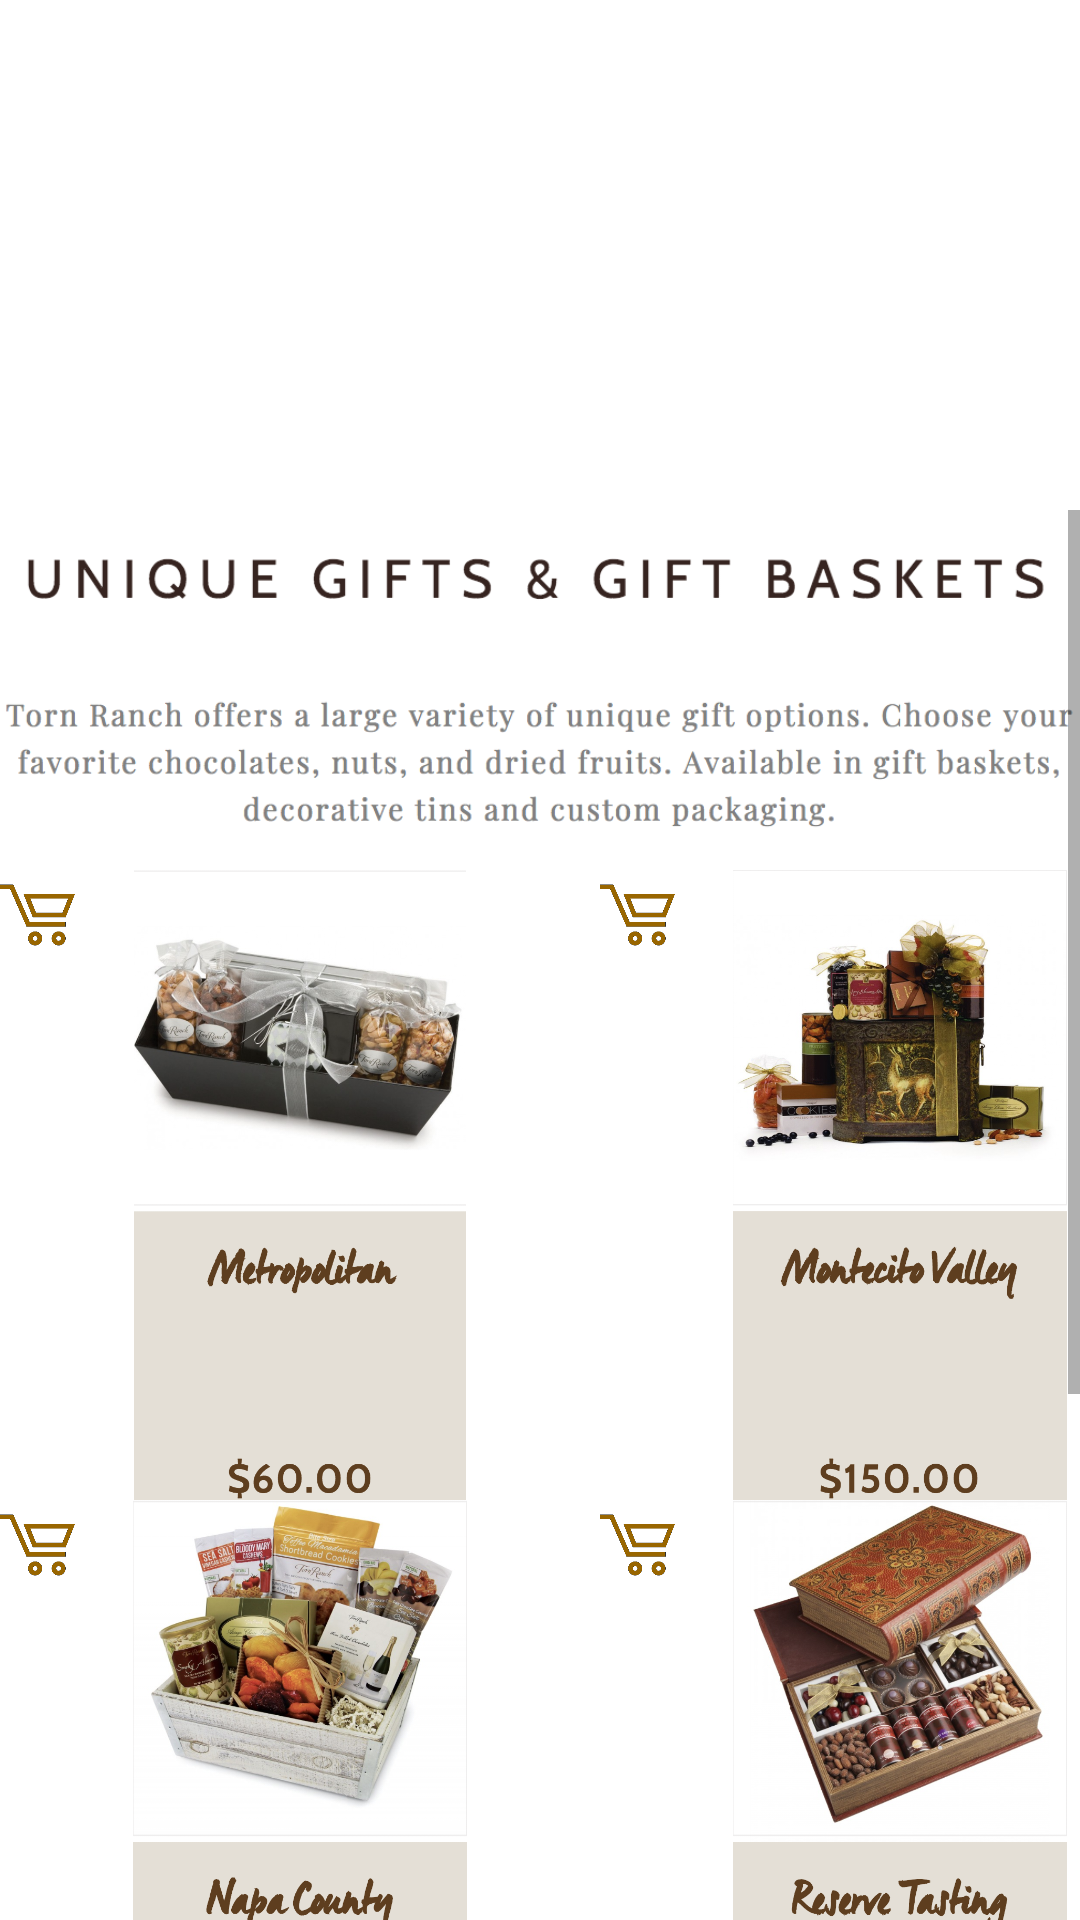

Screen size 1080 x 1920. Icon name, then its box in pixels as (x1, y1, x2, y2):
cart: (0, 884, 75, 946), (600, 884, 675, 946), (0, 1514, 75, 1576), (600, 1514, 675, 1576)
